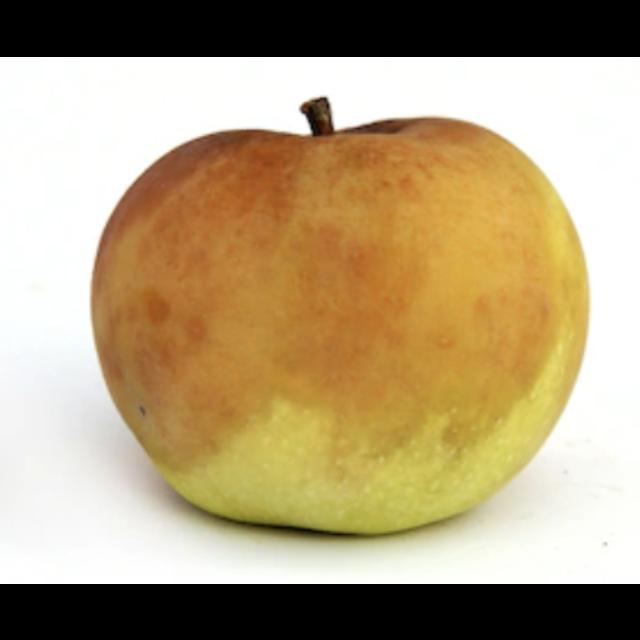Apel Tidak Segar: (81, 80, 609, 542)
